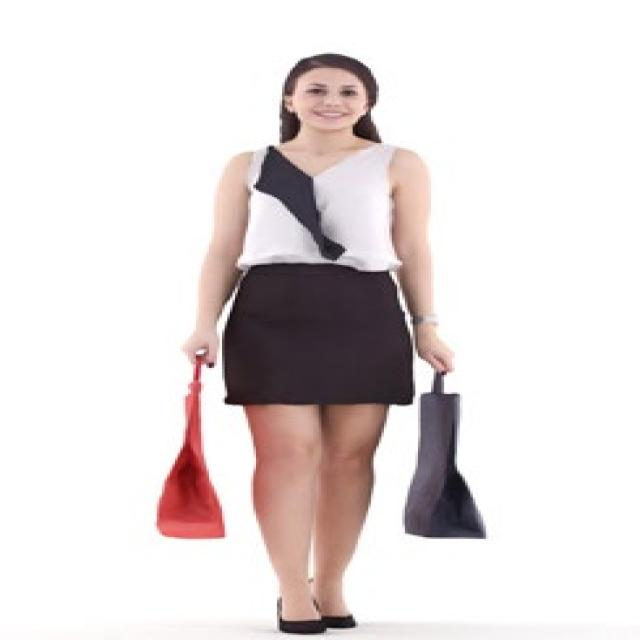standing: (188, 48, 450, 634)
